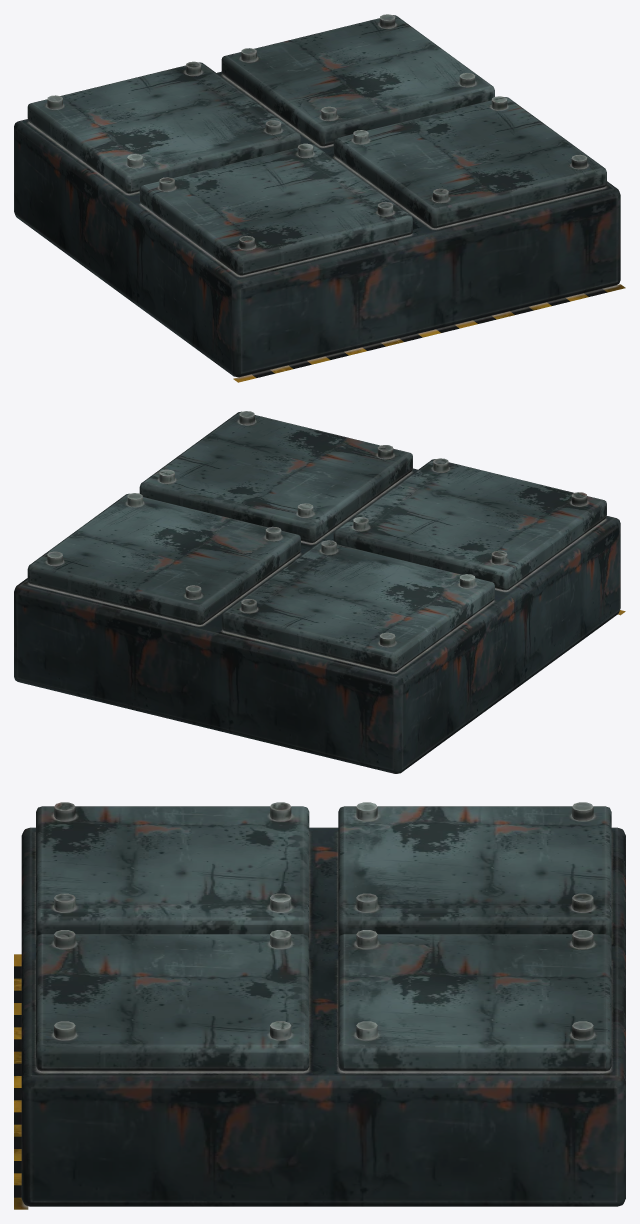
The model's file is armor_plating.glb.
3 views of the same model, one above another, from view 1: azimuth 30°, elevation 25°; view 2: azimuth 150°, elevation 25°; view 3: azimuth 270°, elevation 25° (orthographic). The views are drawn at different scales.
Parts seen in each view (by area): view 1: te_armor_plating; view 2: te_armor_plating; view 3: te_armor_plating.
Part boxes in pixels (<box>): te_armor_plating: <box>14,14,625,382</box>; te_armor_plating: <box>14,411,625,773</box>; te_armor_plating: <box>14,802,625,1209</box>.
Bounding box in the file's own units: 0.84 × 0.255 × 0.8506.
Materials: 1 (1 with a texture image).
